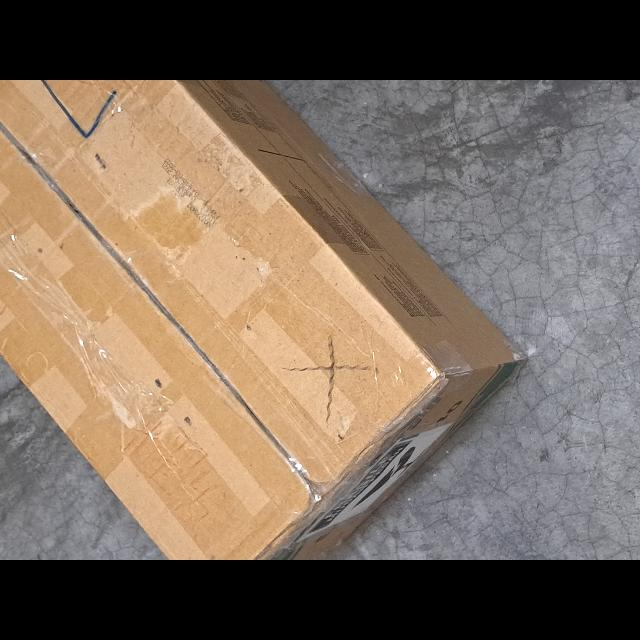papelão: (0, 80, 528, 560)
